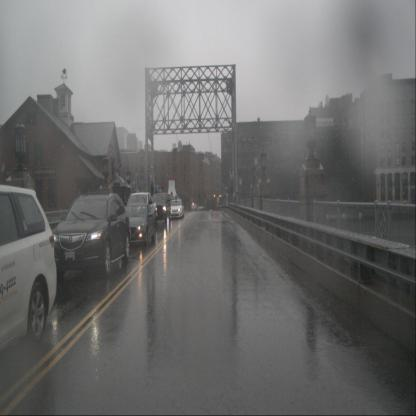vehicle-car: (0, 186, 58, 351), (53, 193, 130, 280), (119, 202, 156, 247), (170, 199, 184, 219)
vehicle-truck: (125, 192, 157, 229), (151, 193, 171, 222), (191, 204, 199, 216)
